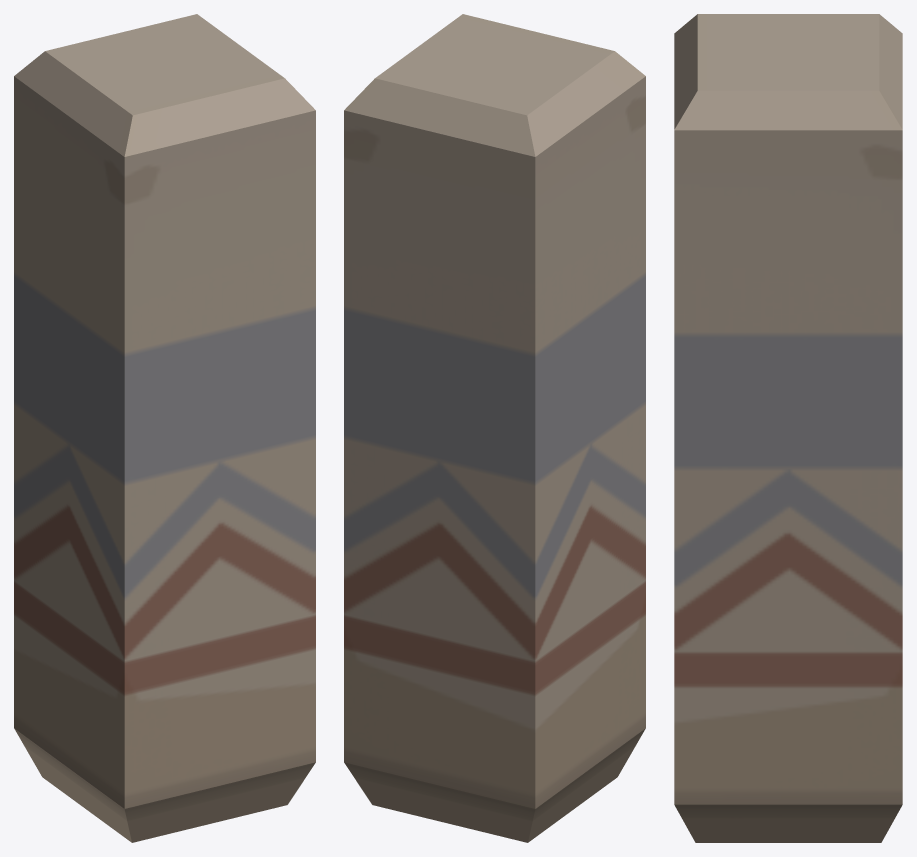
Rendered from SM_Bld_Wall_Balcony_Pillar_02.fbx.
3 renders of one model, left to right at view 1: azimuth 30°, elevation 25°; view 2: azimuth 150°, elevation 25°; view 3: azimuth 270°, elevation 25°, orthographic. The views are drawn at different scales.
Visible parts, largest first — view 1: SM_Bld_Wall_Balcony_Pillar_02; view 2: SM_Bld_Wall_Balcony_Pillar_02; view 3: SM_Bld_Wall_Balcony_Pillar_02.
Part boxes in pixels (x1,y1,x2,y2): SM_Bld_Wall_Balcony_Pillar_02: [14, 14, 315, 842]; SM_Bld_Wall_Balcony_Pillar_02: [344, 14, 645, 842]; SM_Bld_Wall_Balcony_Pillar_02: [674, 14, 902, 842].
Bounding box in the file's own units: 28.49 × 103 × 28.49.
